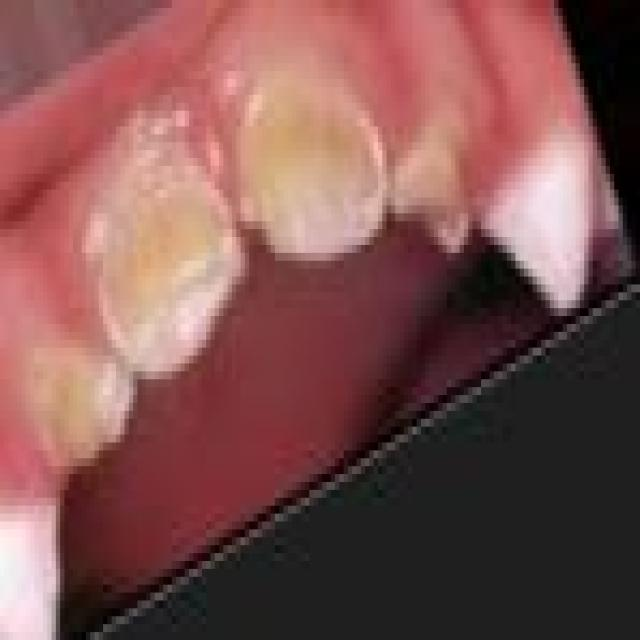caries: (90, 136, 244, 380), (236, 76, 388, 264), (17, 330, 142, 489), (384, 121, 472, 267)
